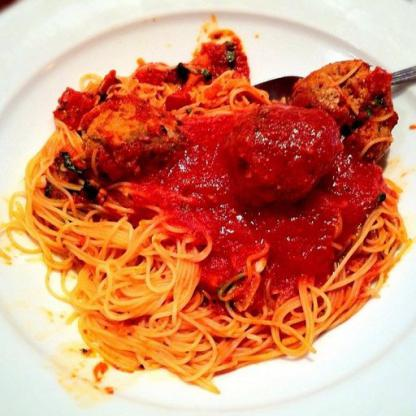pasta: (25, 45, 395, 388)
